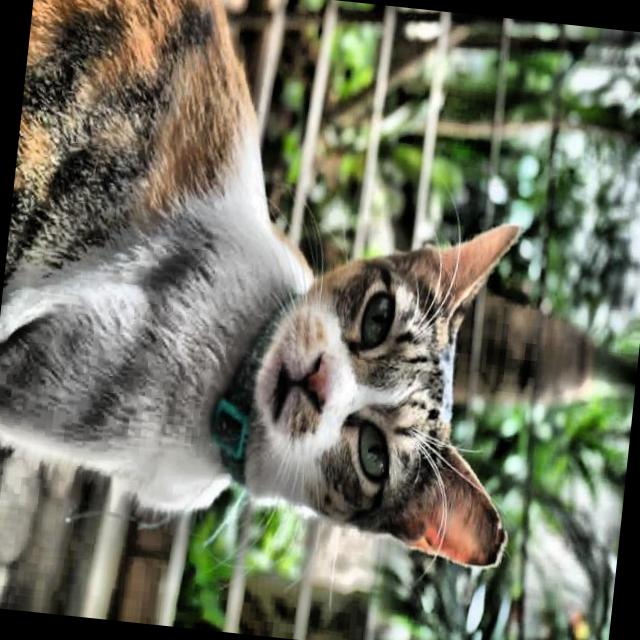Healthy skin: (74, 230, 241, 428), (70, 15, 220, 152)
